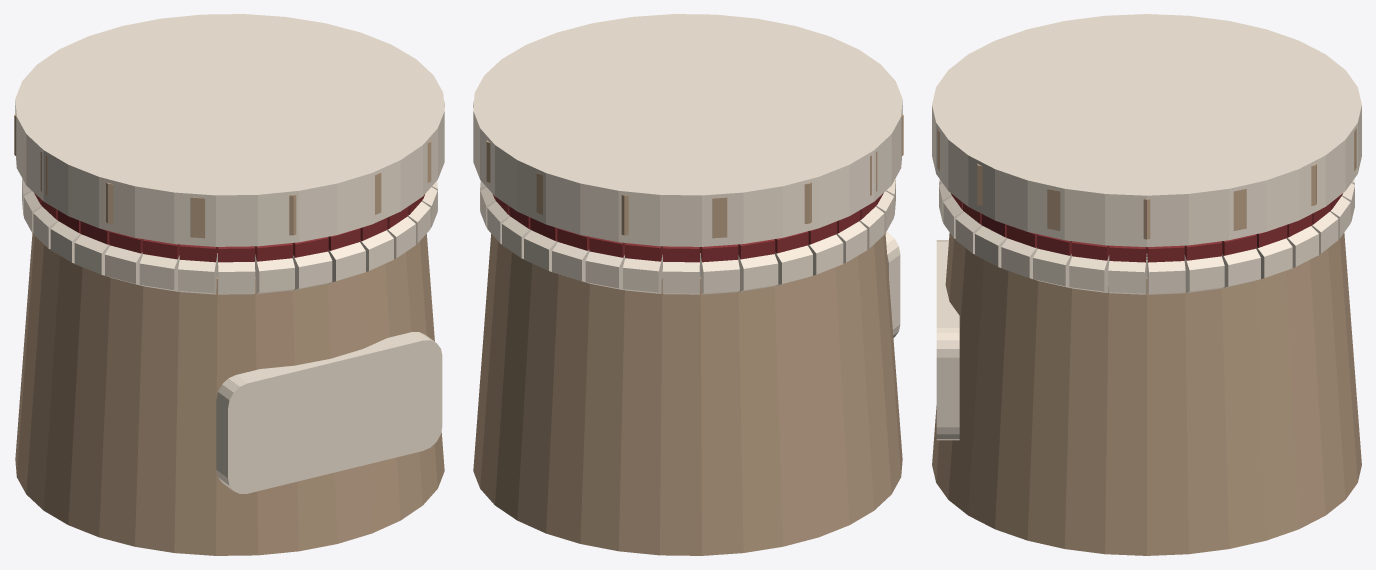
Rendered from sealjar.glb.
3 views of the same model, side by side, from view 1: azimuth 30°, elevation 25°; view 2: azimuth 150°, elevation 25°; view 3: azimuth 270°, elevation 25° (orthographic).
Parts seen in each view (by area): view 1: jar base, lid, label, shoulder11, shoulder9, shoulder12, shoulder10, shoulder8, shoulder13, shoulder7, shoulder14, shoulder6 (+10 smaller); view 2: jar base, lid, shoulder20, shoulder22, shoulder19, shoulder21, shoulder23, shoulder18, label, shoulder24, shoulder17, shoulder25 (+10 smaller); view 3: jar base, lid, label, shoulder1, shoulder30, shoulder0, shoulder31, shoulder2, shoulder29, shoulder3, shoulder28, shoulder4 (+11 smaller).
Part boxes in pixels (x1=…): jar base: x1=15, y1=233, x2=444, y2=555; lid: x1=15, y1=14, x2=444, y2=246; label: x1=216, y1=332, x2=442, y2=493; shoulder11: x1=178, y1=254, x2=217, y2=294; shoulder9: x1=255, y1=254, x2=294, y2=293; shoulder12: x1=139, y1=254, x2=179, y2=291; shoulder10: x1=217, y1=253, x2=255, y2=294; shoulder8: x1=292, y1=251, x2=332, y2=289; shoulder13: x1=105, y1=245, x2=143, y2=285; shoulder7: x1=328, y1=242, x2=365, y2=283; shoulder14: x1=74, y1=234, x2=109, y2=275; shoulder6: x1=360, y1=230, x2=393, y2=271; jar base: x1=473, y1=233, x2=902, y2=555; lid: x1=473, y1=14, x2=902, y2=246; shoulder20: x1=700, y1=254, x2=739, y2=294; shoulder22: x1=623, y1=254, x2=662, y2=293; shoulder19: x1=738, y1=254, x2=778, y2=291; shoulder21: x1=662, y1=253, x2=700, y2=294; shoulder23: x1=585, y1=251, x2=625, y2=289; shoulder18: x1=774, y1=245, x2=812, y2=285; label: x1=885, y1=232, x2=900, y2=337; shoulder24: x1=552, y1=242, x2=589, y2=283; shoulder17: x1=808, y1=234, x2=843, y2=275; shoulder25: x1=524, y1=230, x2=557, y2=271; jar base: x1=932, y1=233, x2=1361, y2=555; lid: x1=932, y1=14, x2=1361, y2=246; label: x1=936, y1=240, x2=959, y2=440; shoulder1: x1=1069, y1=255, x2=1109, y2=292; shoulder30: x1=1184, y1=255, x2=1224, y2=292; shoulder0: x1=1108, y1=254, x2=1146, y2=294; shoulder31: x1=1147, y1=254, x2=1185, y2=294; shoulder2: x1=1033, y1=248, x2=1071, y2=288; shoulder29: x1=1222, y1=248, x2=1260, y2=288; shoulder3: x1=1001, y1=238, x2=1037, y2=278; shoulder28: x1=1256, y1=238, x2=1292, y2=278; shoulder4: x1=975, y1=226, x2=1007, y2=267.
Bounding box in the file's own units: 1.06 × 0.98 × 1.06.
